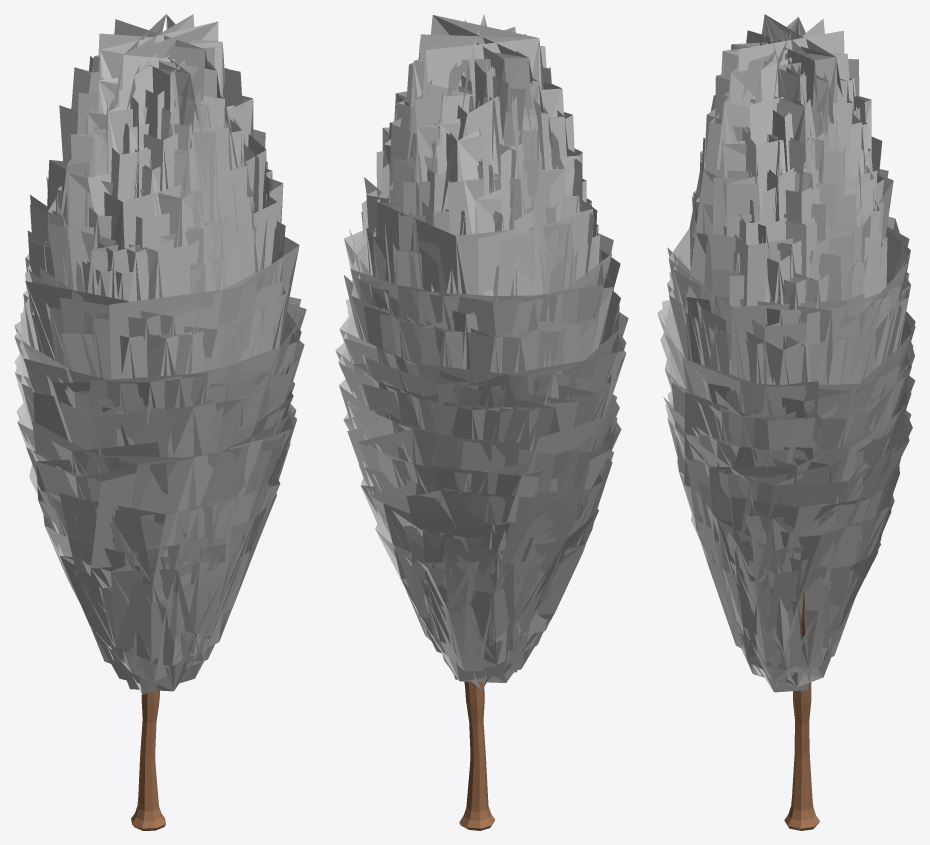
File: CypressTree.fbx
3 views of the same model, side by side, from view 1: azimuth 30°, elevation 25°; view 2: azimuth 150°, elevation 25°; view 3: azimuth 270°, elevation 25° (orthographic).
Parts seen in each view (by area): view 1: CypressTree; view 2: CypressTree; view 3: CypressTree.
Part boxes in pixels (left/top/right/bottom): CypressTree: left=14, top=14, right=306, bottom=830; CypressTree: left=335, top=14, right=628, bottom=830; CypressTree: left=657, top=14, right=915, bottom=830.
Bounding box in the file's own units: 20.61 × 58.65 × 17.3.
